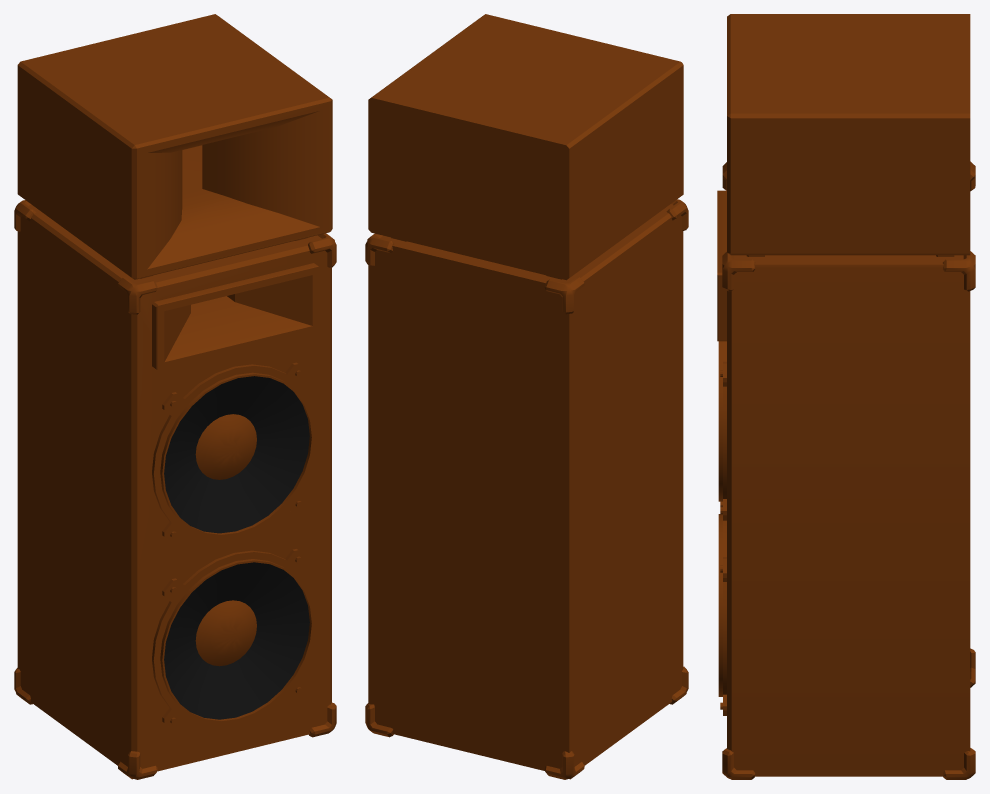
The model's file is Hifi.fbx.
3 views of the same model, side by side, from view 1: azimuth 30°, elevation 25°; view 2: azimuth 150°, elevation 25°; view 3: azimuth 270°, elevation 25° (orthographic). The views are drawn at different scales.
Parts seen in each view (by area): view 1: Hifi; view 2: Hifi; view 3: Hifi.
Part boxes in pixels (x1,y1,x2,y2): Hifi: [14, 14, 336, 779]; Hifi: [365, 14, 688, 779]; Hifi: [717, 14, 975, 779].
Size of the model in its own units: 73.25 by 214 by 75.43.
